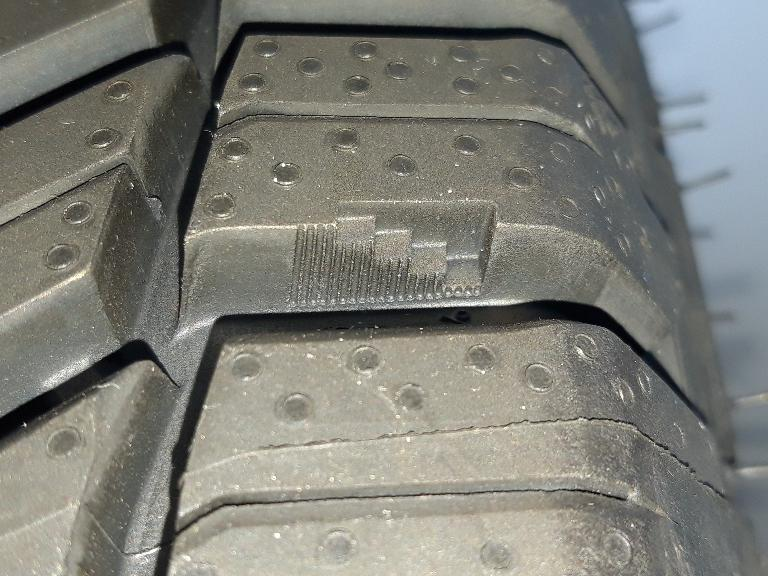temoin:100: (280, 191, 508, 313)
